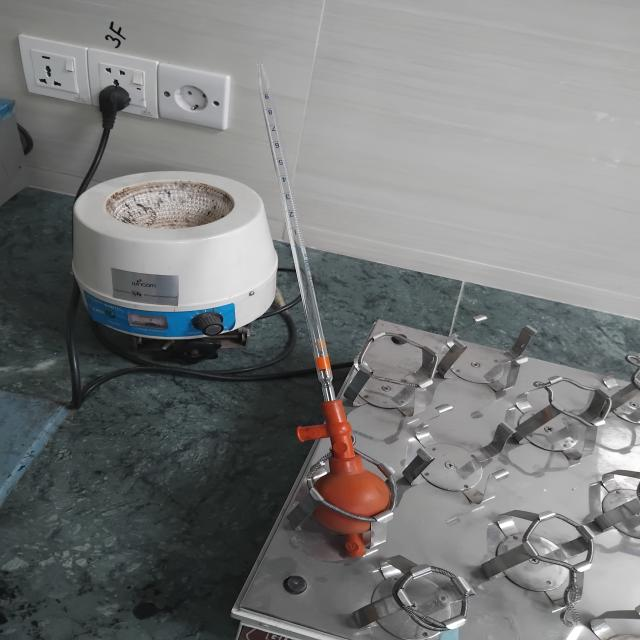Volumetric_Pipet: (217, 41, 452, 570)
